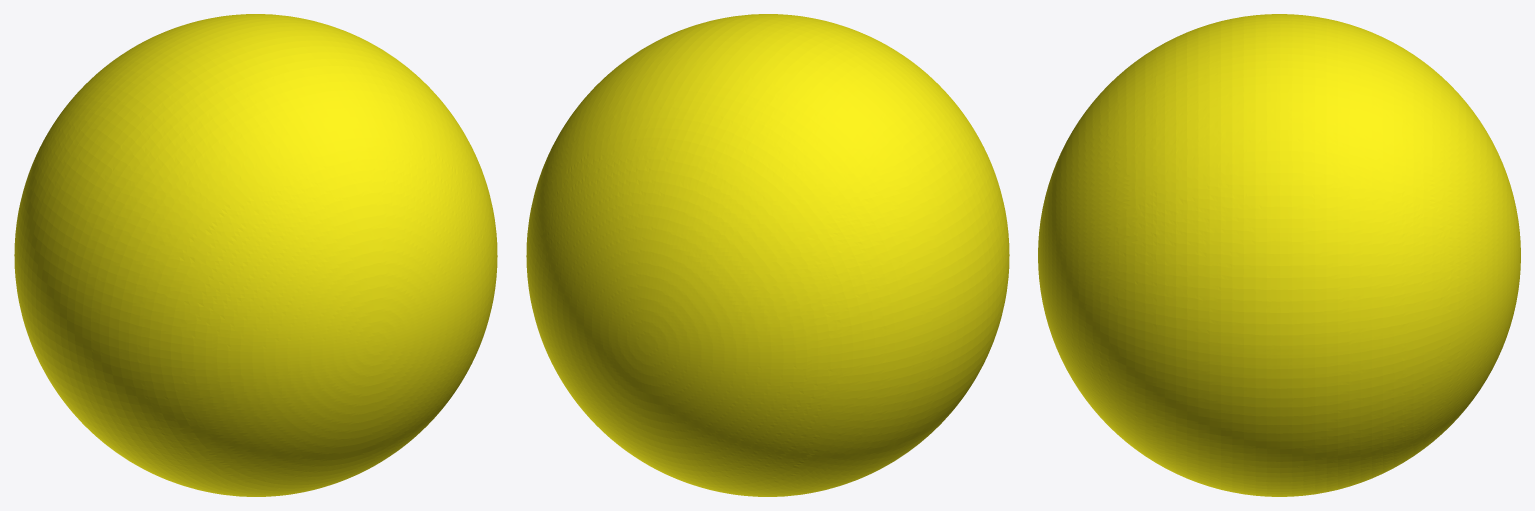
The model's file is fireball_edited.obj.
3 views of the same model, side by side, from view 1: azimuth 30°, elevation 25°; view 2: azimuth 150°, elevation 25°; view 3: azimuth 270°, elevation 25° (orthographic).
Visible parts, largest first — view 1: StaticMeshActor_14; view 2: StaticMeshActor_14; view 3: StaticMeshActor_14.
Part boxes in pixels (x1,y1,x2,y2): StaticMeshActor_14: [14, 14, 497, 496]; StaticMeshActor_14: [526, 14, 1009, 496]; StaticMeshActor_14: [1038, 14, 1520, 496].
Size of the model in its own units: 1.37 by 1.37 by 1.37.
